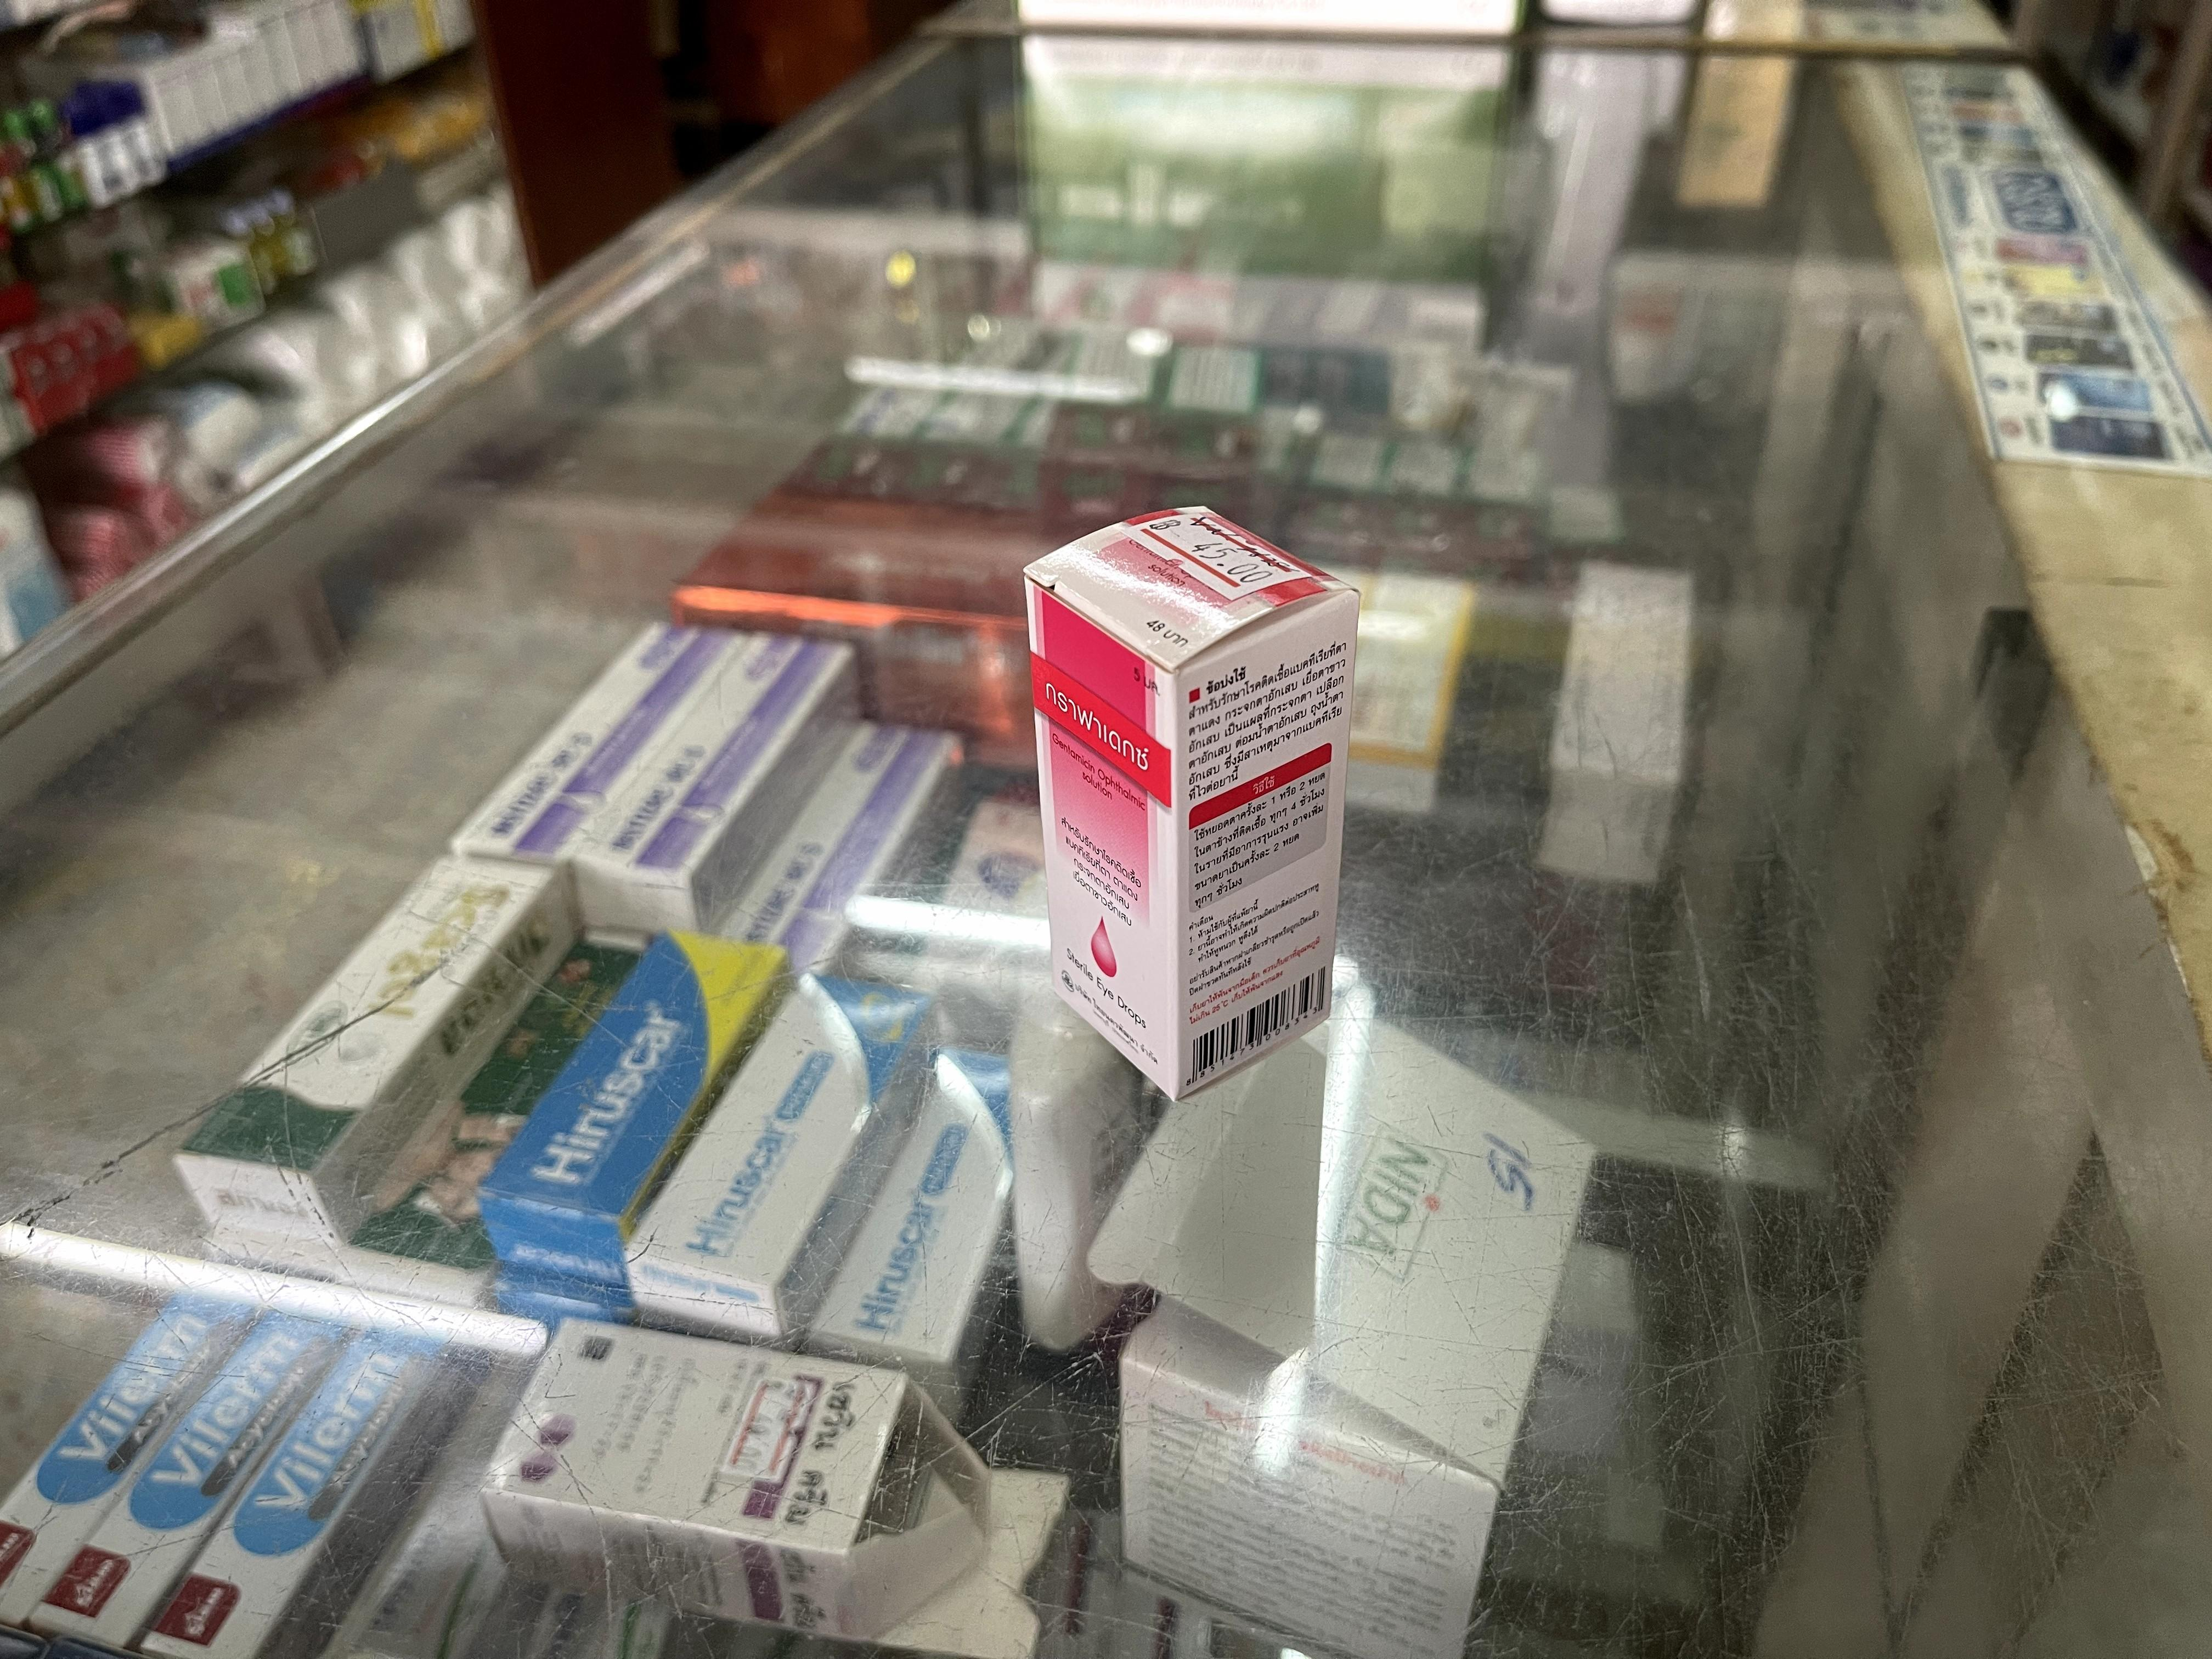Grafadex: (1026, 502, 1366, 1114)
